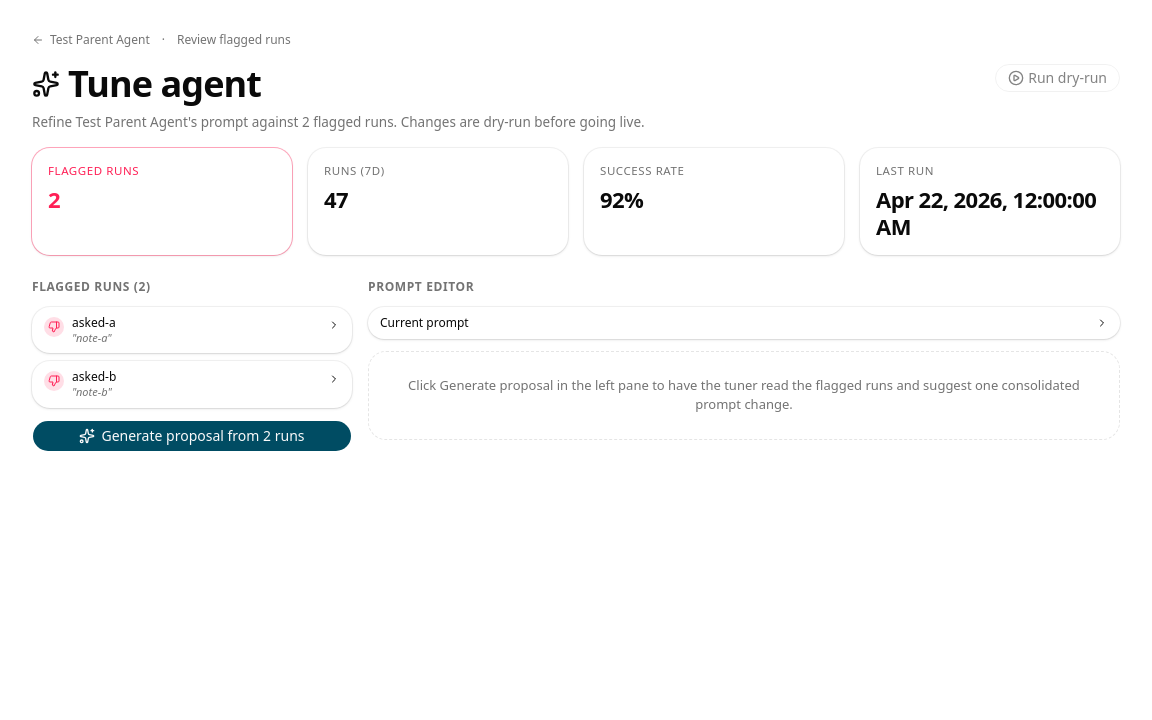
Test: AgentTuneWorkbench — generate proposal › renders the editable textarea with the proposal after generate
The image size is (1152, 720).
Step 1. Click the button with test id "generate-proposal-button" → (192, 436), box left=32, top=420, right=352, bottom=452
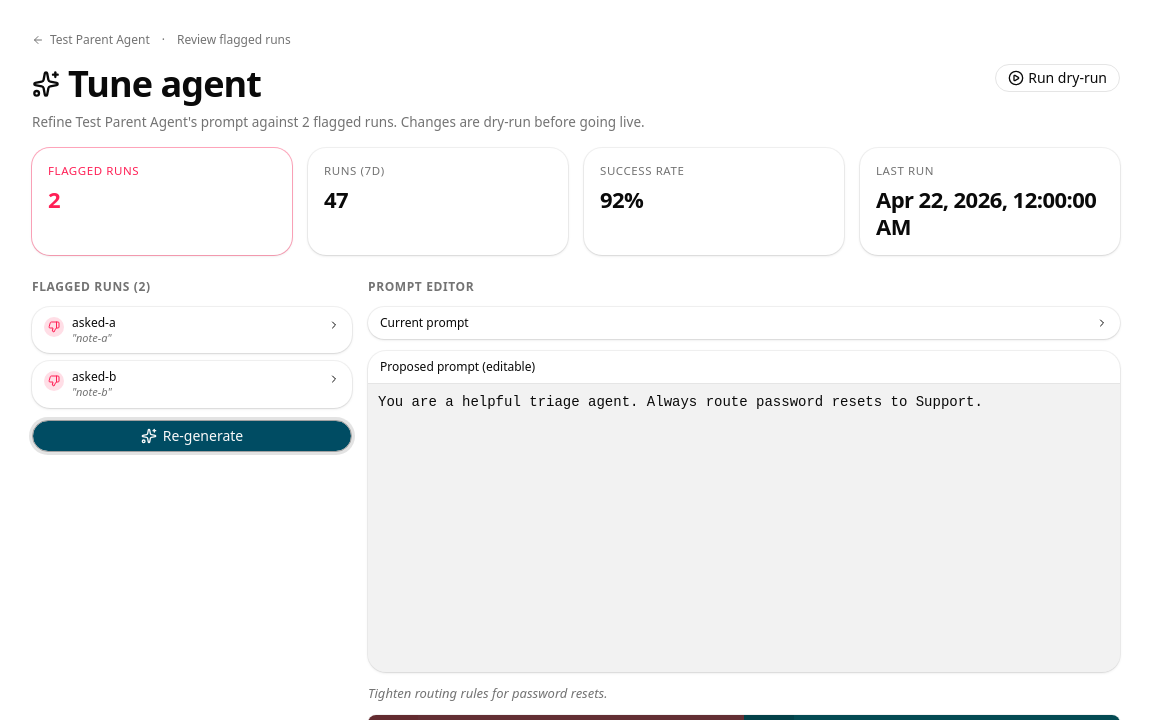
Check: the text box with test id "proposal-textarea" holds "You are a helpful triage agent. Always route password resets to Support.", box left=368, top=384, right=1120, bottom=672
